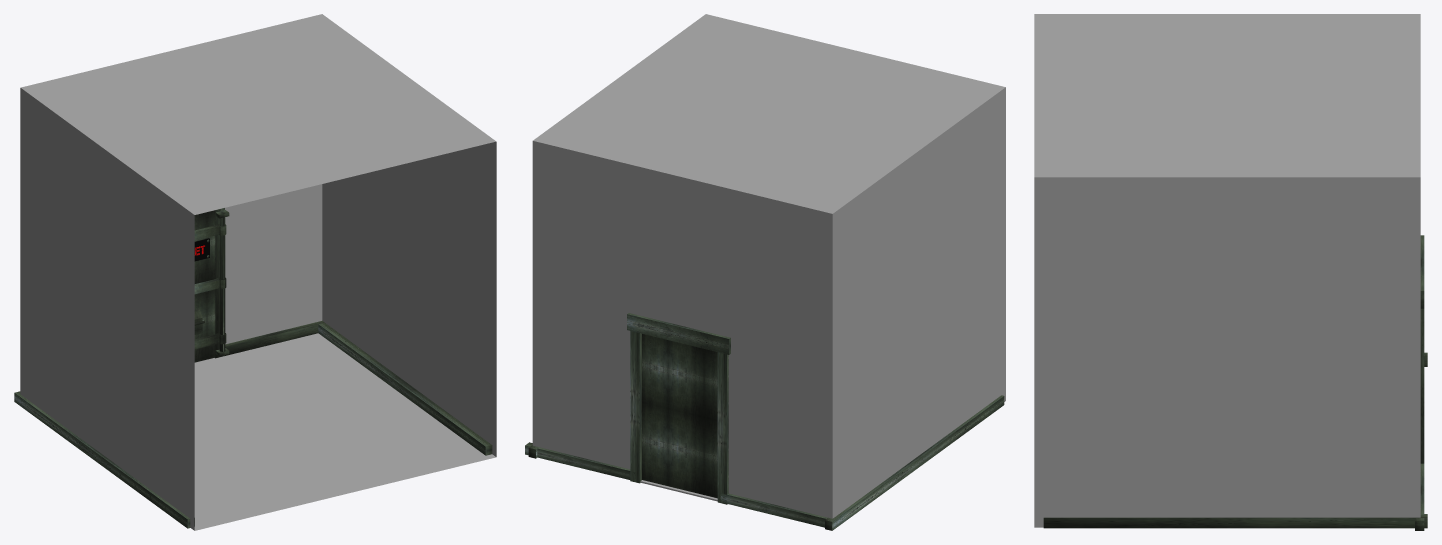
File: MetalDoor.fbx
3 views of the same model, side by side, from view 1: azimuth 30°, elevation 25°; view 2: azimuth 150°, elevation 25°; view 3: azimuth 270°, elevation 25° (orthographic). The views are drawn at different scales.
Parts seen in each view (by area): view 1: polySurface1, polySurface2, pCube25, pCube8, pCube7, pCube6, pCylinder9, pCube3; view 2: polySurface1, pCube25, pCube7, pCube4, pCube3, pCube2, pCube5, pCube6; view 3: polySurface1, pCube8, pCube3.
Part boxes in pixels (x1=…): polySurface1: x1=20, y1=14, x2=496, y2=530; polySurface2: x1=194, y1=333, x2=495, y2=530; pCube25: x1=194, y1=210, x2=226, y2=362; pCube8: x1=318, y1=322, x2=492, y2=455; pCube7: x1=14, y1=391, x2=194, y2=528; pCube6: x1=220, y1=321, x2=324, y2=356; pCylinder9: x1=219, y1=217, x2=225, y2=351; pCube3: x1=215, y1=208, x2=224, y2=358; polySurface1: x1=532, y1=14, x2=1005, y2=518; pCube25: x1=642, y1=334, x2=717, y2=498; pCube7: x1=825, y1=395, x2=1004, y2=530; pCube4: x1=627, y1=313, x2=730, y2=354; pCube3: x1=630, y1=330, x2=641, y2=483; pCube2: x1=717, y1=351, x2=728, y2=504; pCube5: x1=720, y1=493, x2=834, y2=527; pCube6: x1=525, y1=442, x2=635, y2=479; polySurface1: x1=1034, y1=14, x2=1420, y2=527; pCube8: x1=1043, y1=514, x2=1427, y2=528; pCube3: x1=1420, y1=308, x2=1424, y2=463.
Size of the model in its own units: 5.02 by 4.89 by 4.97.
